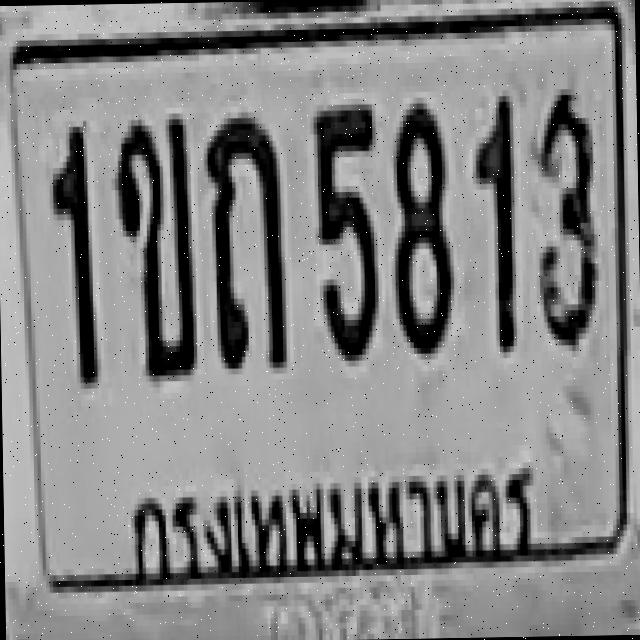1: (47, 123, 96, 386), (471, 90, 517, 352)
11KhorKhai: (114, 113, 194, 376)
3: (532, 85, 596, 348)
31ThorThung: (203, 112, 286, 368)
5: (312, 101, 378, 358)
8: (388, 96, 452, 354)
Bangkok: (117, 448, 544, 590)
